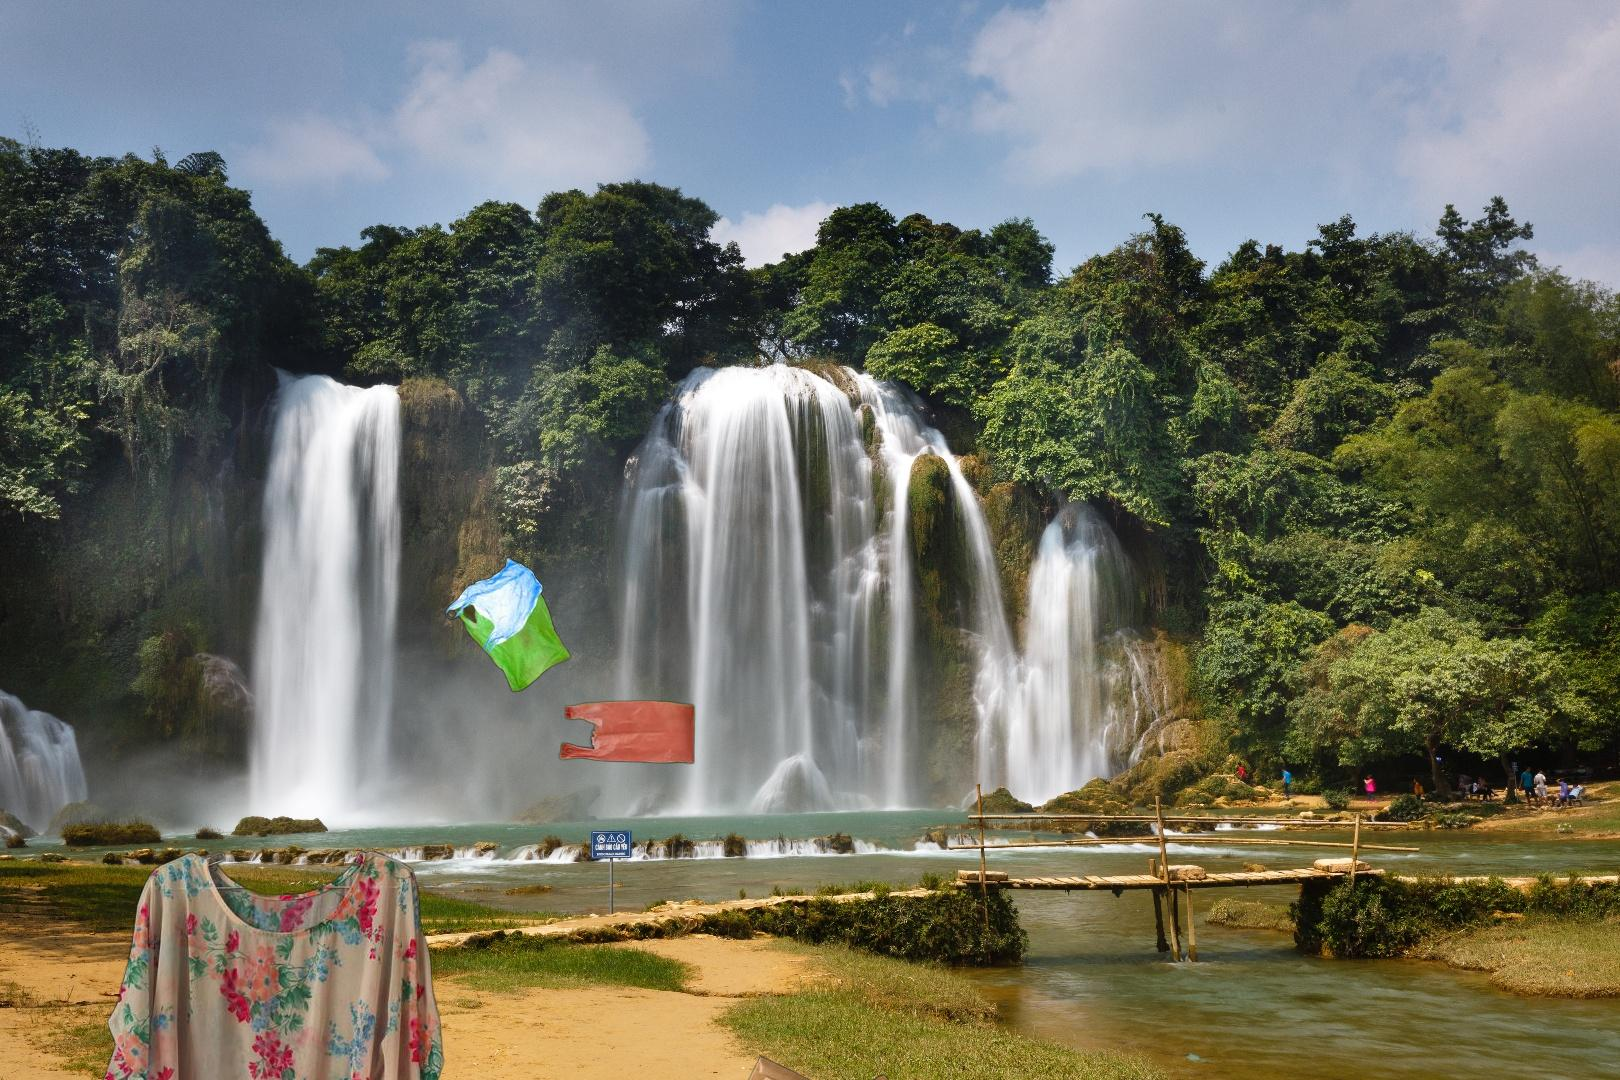clothes: (93, 843, 447, 1080)
paper-bag: (714, 1053, 947, 1080)
plastic-bag: (442, 554, 698, 767)
